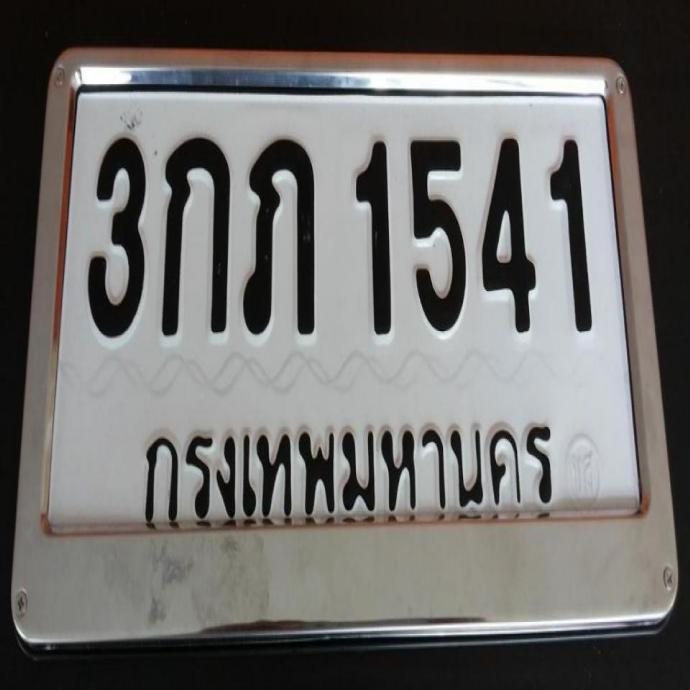1: (535, 133, 598, 336), (336, 133, 398, 336)
3: (71, 128, 159, 341)
4: (463, 130, 543, 337)
5: (396, 130, 477, 336)
A01: (142, 127, 243, 340)
A32: (224, 128, 327, 339)
BKK: (119, 373, 579, 569)
